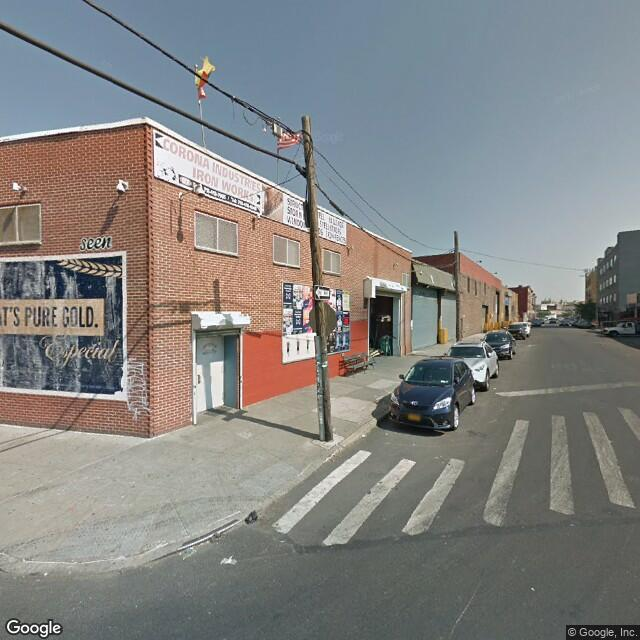litter: (240, 509, 260, 531), (357, 431, 364, 437)
